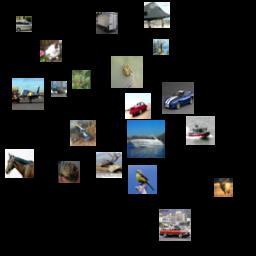airplane: (12, 78, 44, 110), (144, 2, 170, 28)
automobile: (162, 82, 194, 114), (159, 209, 191, 241), (125, 93, 151, 119), (16, 16, 32, 32)
bird: (128, 165, 157, 194)
cat: (40, 40, 62, 62)
deer: (96, 152, 122, 178), (72, 70, 91, 89), (214, 178, 233, 197), (153, 39, 169, 55)
frog: (111, 56, 143, 88), (70, 120, 96, 146), (58, 161, 80, 183)
ship: (127, 120, 165, 158), (186, 116, 215, 145)
truck: (96, 12, 118, 34), (51, 81, 67, 97)
